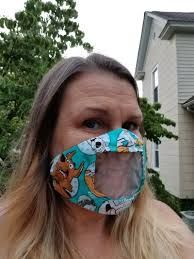with-mask: (37, 89, 159, 221)
